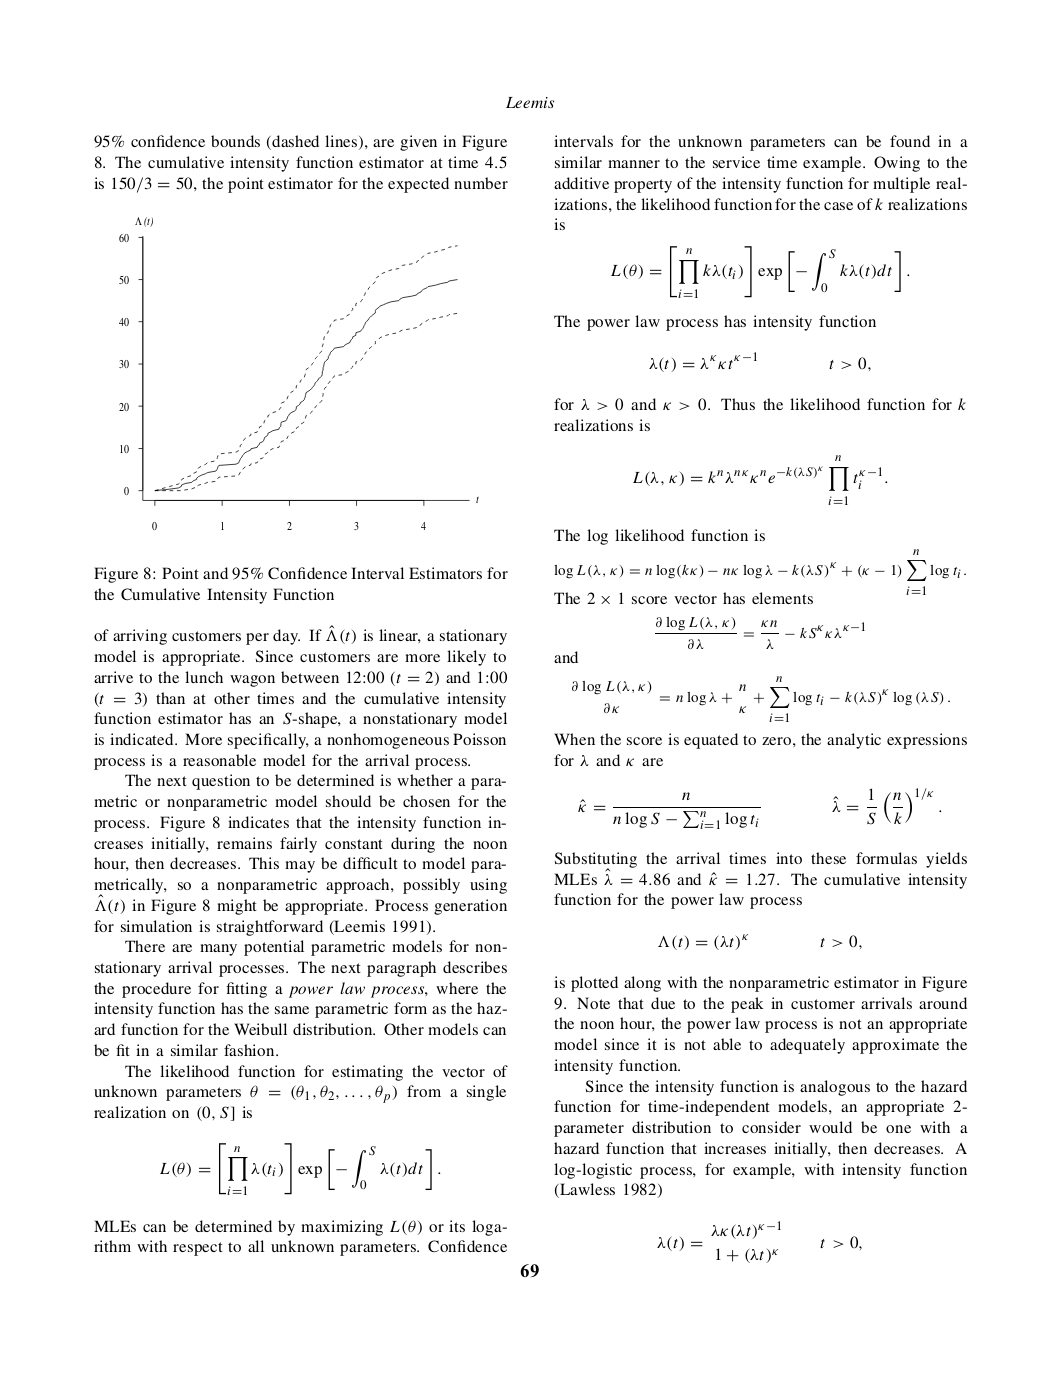figure: (119, 217, 478, 530)
formula: (572, 675, 950, 722), (611, 245, 909, 298), (578, 787, 941, 829), (160, 1142, 440, 1195), (633, 455, 887, 504), (658, 1220, 862, 1263), (655, 616, 864, 649), (649, 351, 870, 372), (658, 933, 862, 950)
